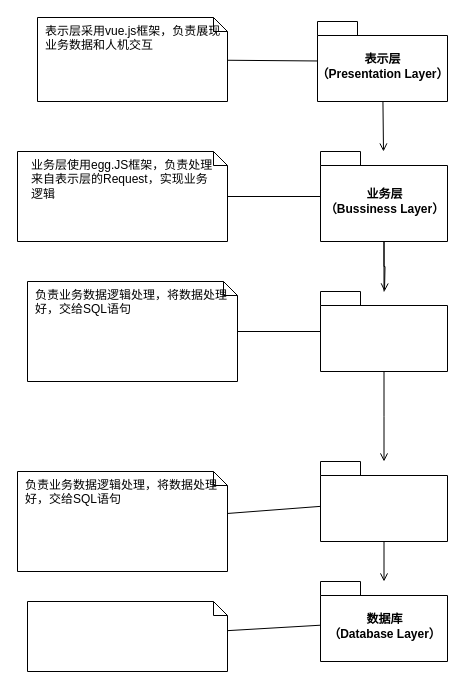
Image size: 466x689. Some labels were removed from this diagram. The shapes that lost their labels are listed below. From the top down, each one's centre as x and y in pixels, then its label:
At point 384,331: "服务层 （Service Layer）".
At point 384,501: "持久层 （P ersistence Layer ）".
At point 127,636: "使用MySQL，保存数据".
